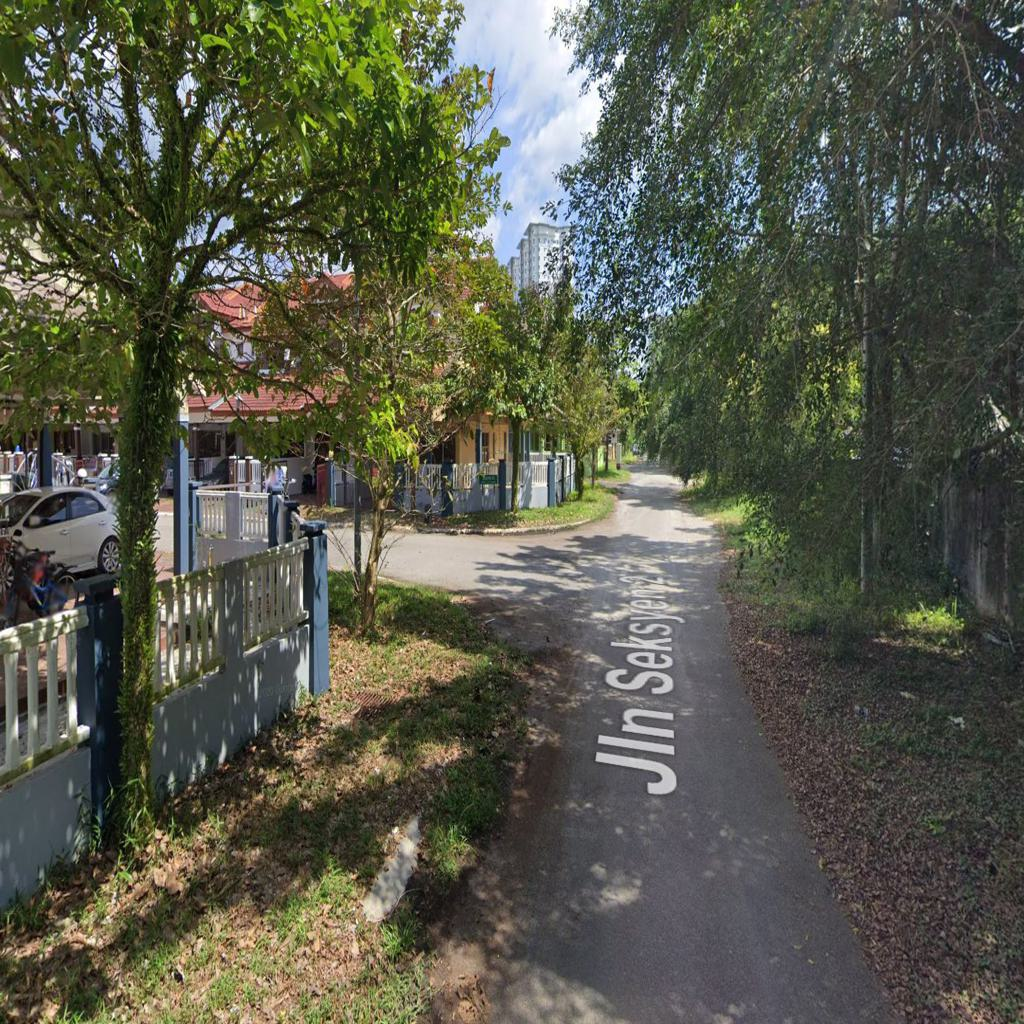Junction: (330, 483, 628, 697)
